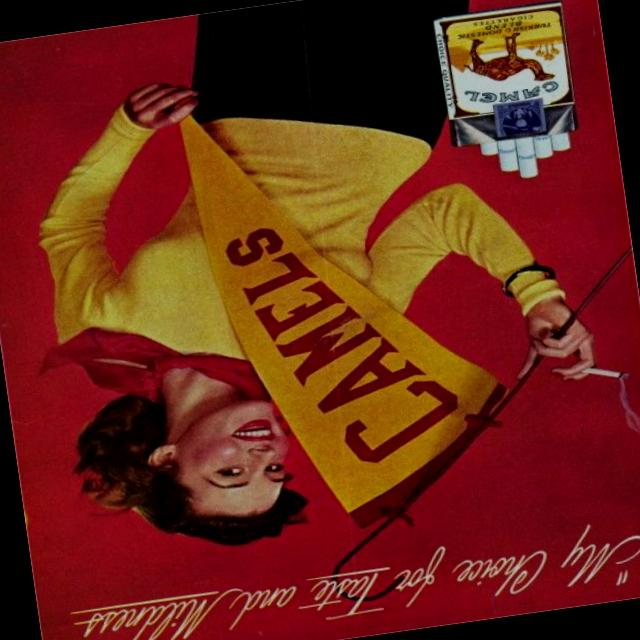cigarette: (591, 361, 620, 384)
